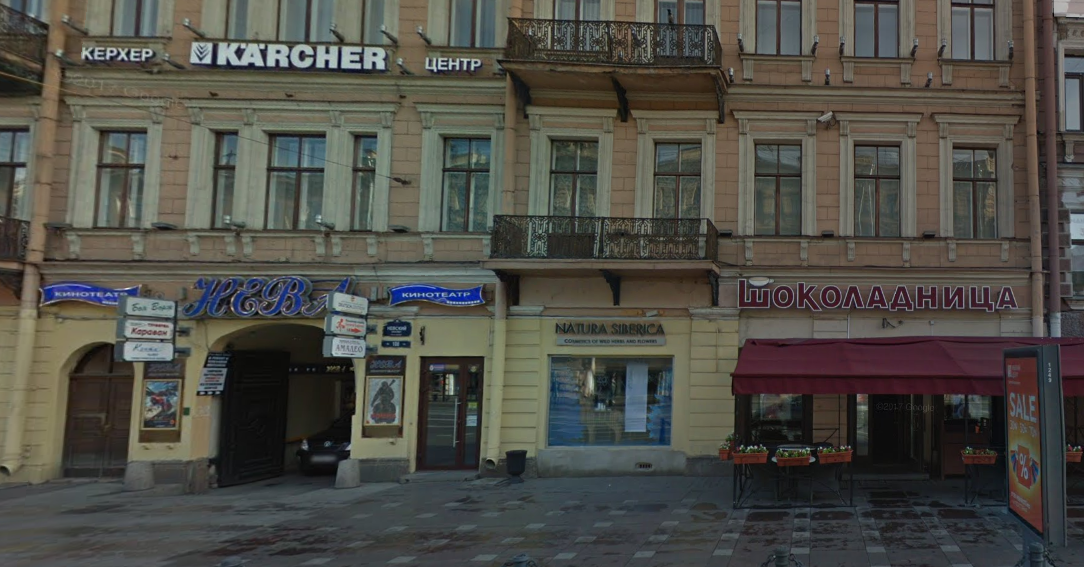arch: (192, 324, 361, 489)
cantilever: (109, 291, 179, 365), (323, 286, 370, 363)
door: (54, 344, 132, 482), (414, 355, 478, 474)
signboard: (737, 273, 1019, 311), (180, 274, 353, 321), (187, 41, 385, 69), (549, 315, 676, 348), (39, 280, 147, 308), (387, 282, 486, 309), (80, 44, 153, 64), (424, 56, 481, 75)
window: (547, 357, 673, 447), (265, 129, 322, 230), (652, 138, 702, 246), (547, 134, 597, 240), (89, 126, 140, 229), (438, 134, 489, 233), (754, 136, 803, 239), (854, 139, 904, 239), (950, 142, 999, 242), (952, 1, 995, 63), (1, 126, 29, 215), (854, 1, 901, 54), (275, 1, 334, 41), (211, 129, 235, 227), (350, 132, 372, 232), (759, 1, 799, 52), (449, 1, 494, 45)
